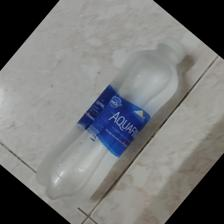Aquafina: (38, 37, 187, 203)
